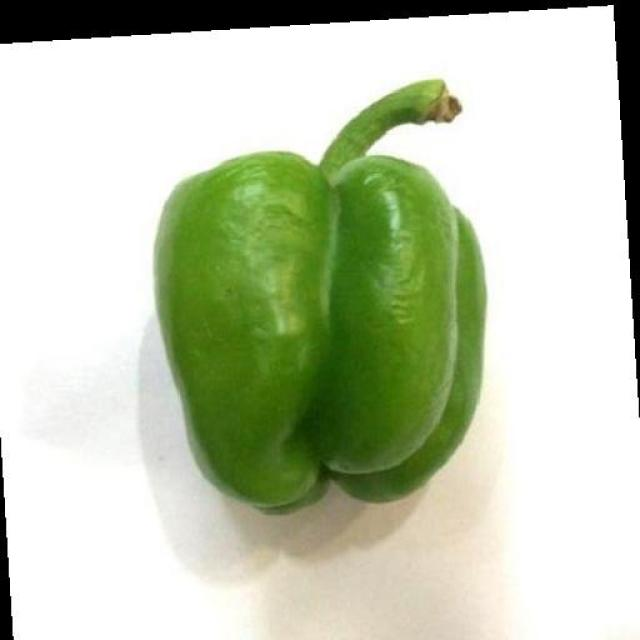Fresh_Capsicum: (135, 146, 514, 475)
